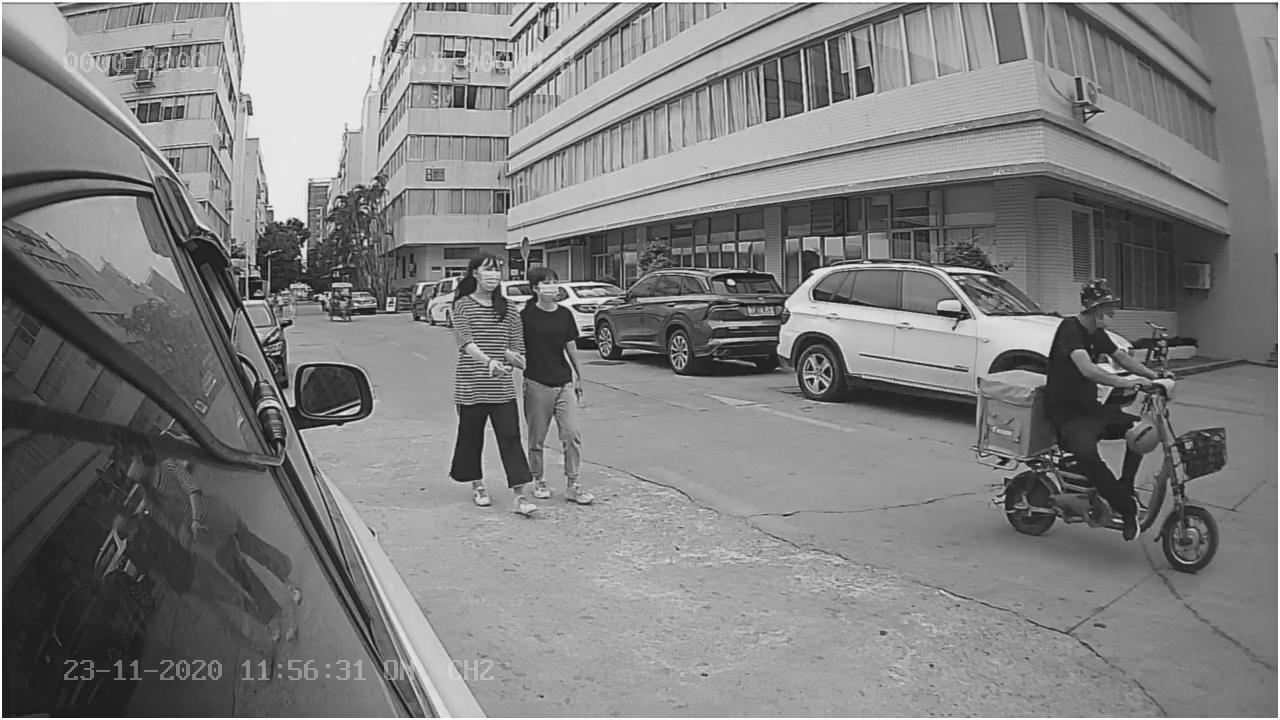person: (449, 247, 536, 517), (517, 260, 600, 509), (1039, 271, 1126, 425)
